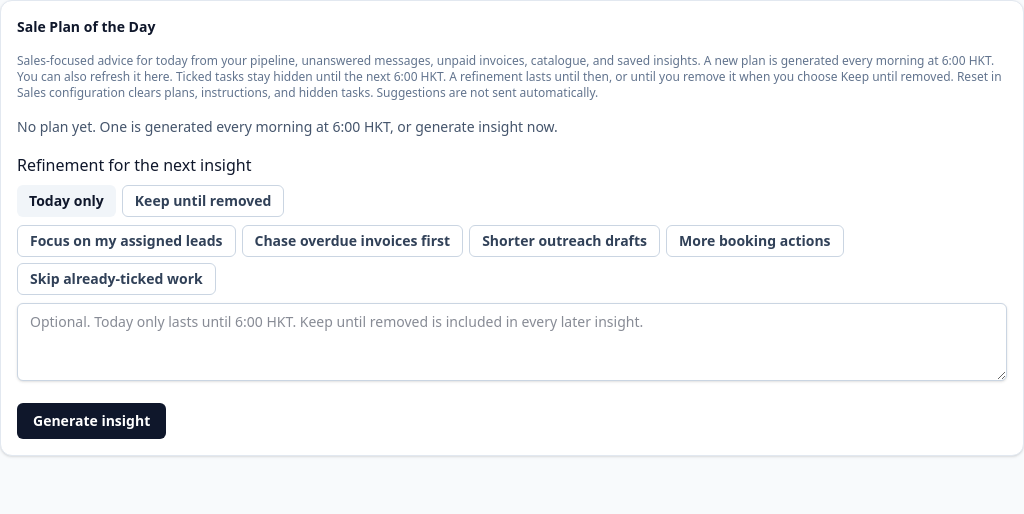
it: SalePlanOfTheDayCard › shows a friendly message when generation hits a gateway timeout
The width and height of the screenshot is (1024, 514).
Expected: the text "No plan yet" is shown, [17,117,558,136]
Click the button "Generate insight".
click(92, 421)  # box [17,403,166,439]
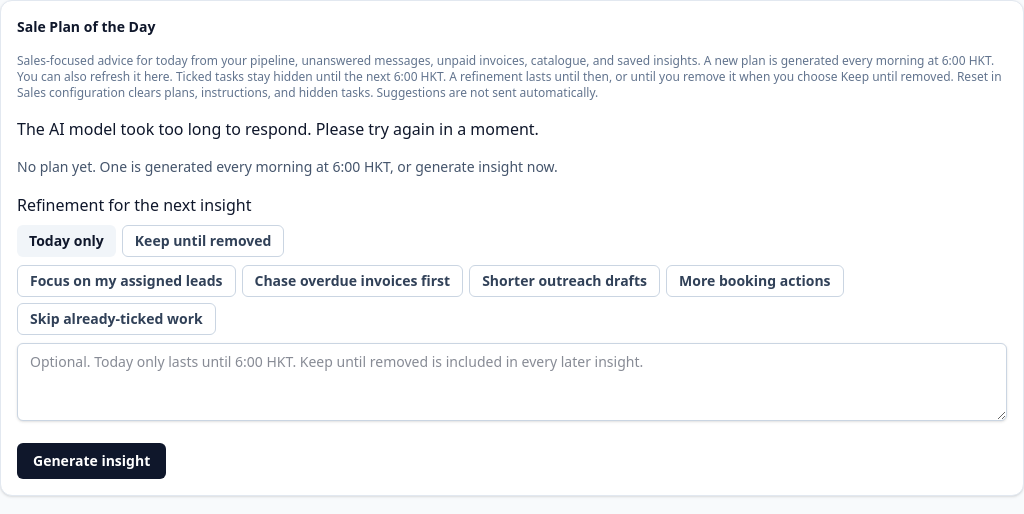
Now the text "The AI model took too long to respond" is shown, box [17,118,539,140]
